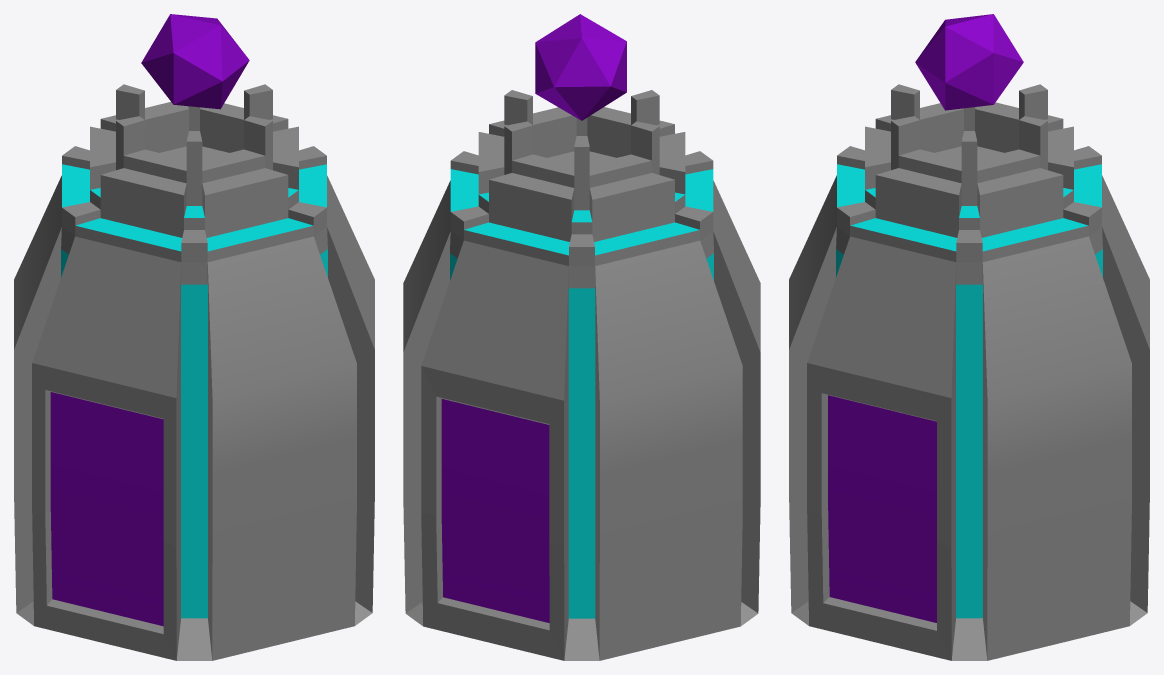
The model's file is StylBuilding1.fbx.
3 views of the same model, side by side, from view 1: azimuth 30°, elevation 25°; view 2: azimuth 150°, elevation 25°; view 3: azimuth 270°, elevation 25° (orthographic).
Parts seen in each view (by area): view 1: pPrism2; view 2: pPrism2; view 3: pPrism2.
Part boxes in pixels (x1,y1,x2,y2): pPrism2: (14,14,374,660); pPrism2: (403,14,760,660); pPrism2: (789,14,1149,660).
Size of the model in its own units: 54.79 by 85.31 by 49.94.
